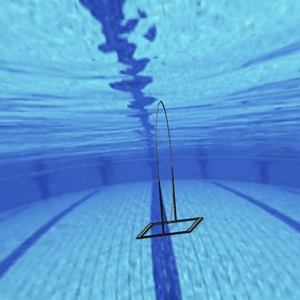circle: (135, 99, 203, 241)
